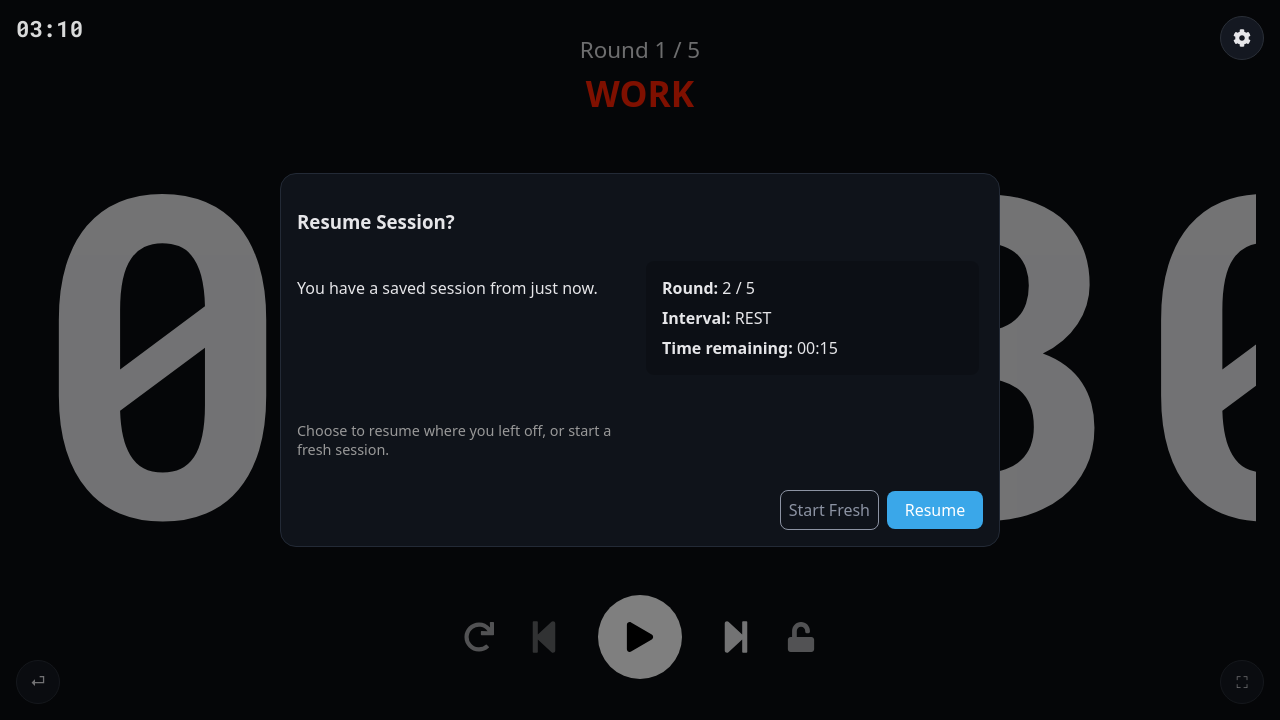
Test: Resume Modal › should resume session when Resume button clicked
// Find the button within the modal
Click the button "Resume". click: [935, 510]
box: left=887, top=491, right=983, bottom=529
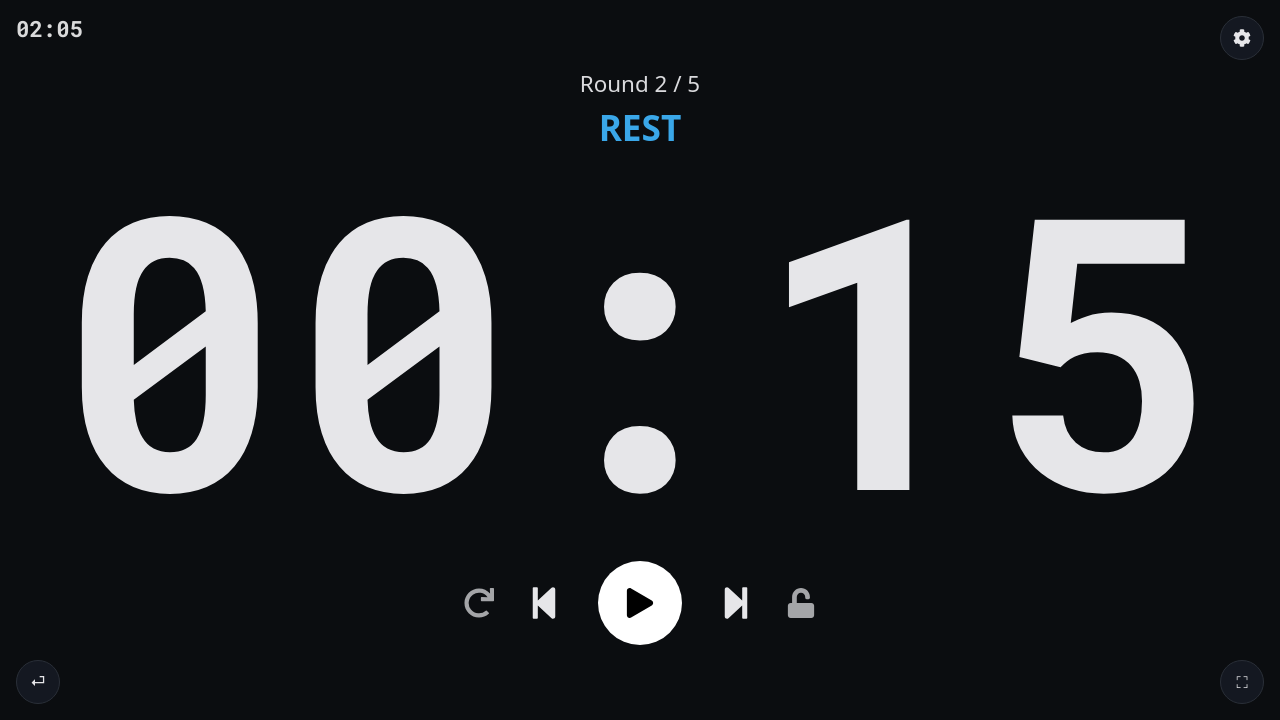
Expected: the heading "Resume Session" is gone
